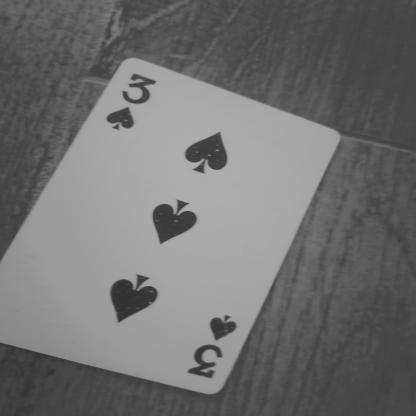3S: (170, 306, 252, 382), (98, 70, 180, 136)
